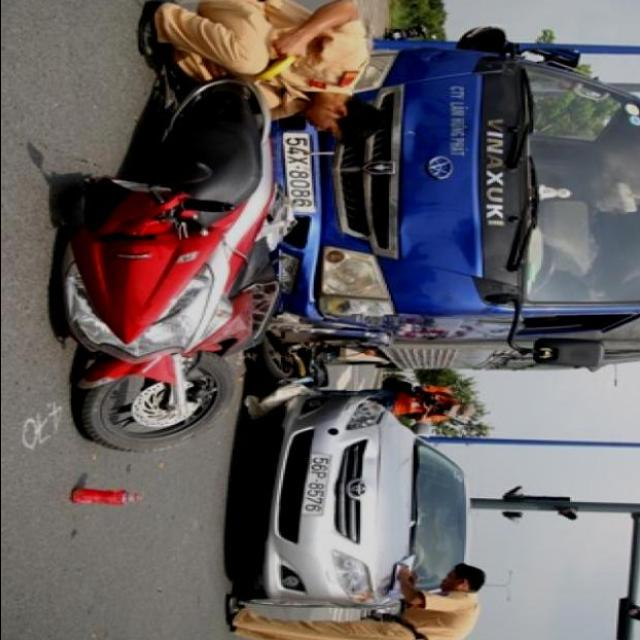accident: (30, 20, 516, 484)
